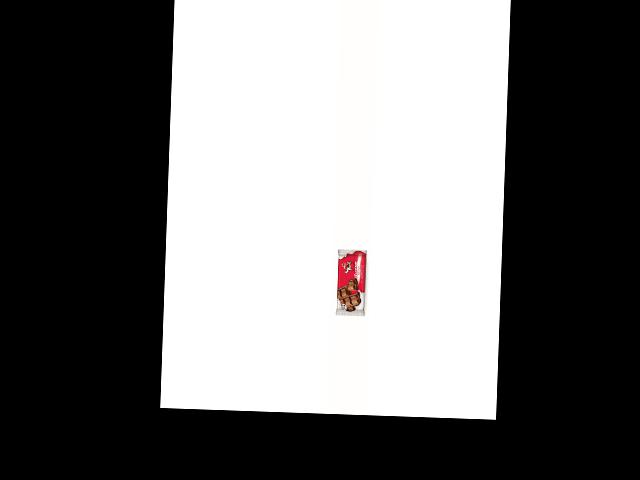chocolate: (333, 247, 372, 317)
